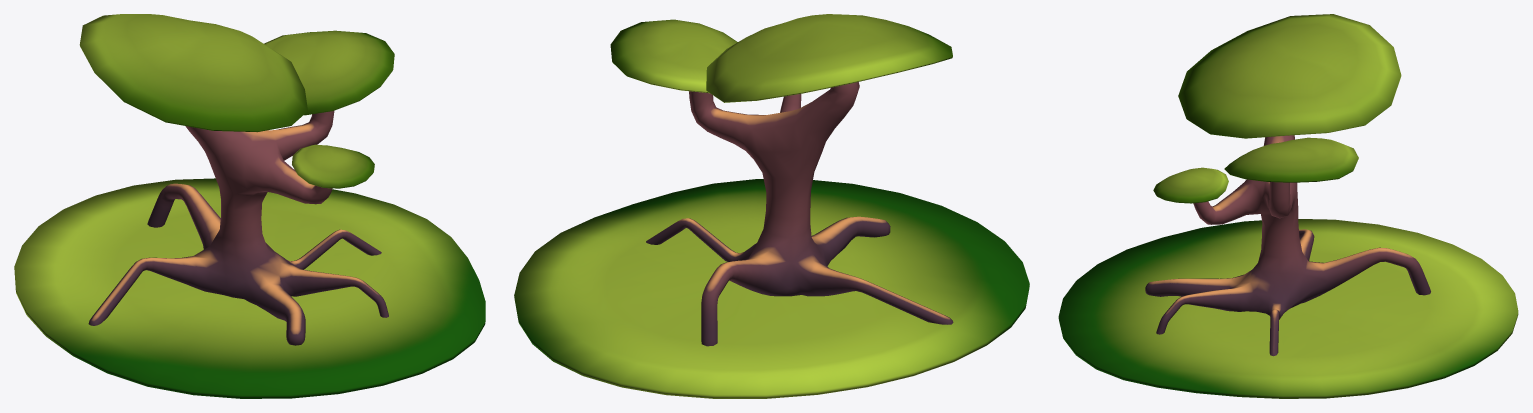
The model's file is Tree_02_Baked.fbx.
3 renders of one model, left to right at view 1: azimuth 30°, elevation 25°; view 2: azimuth 150°, elevation 25°; view 3: azimuth 270°, elevation 25°, orthographic. The views are drawn at different scales.
Visible parts, largest first — view 1: Tree_02_Ground_Baked, Leaf.005_Baked; view 2: Tree_02_Ground_Baked, Leaf.005_Baked; view 3: Tree_02_Ground_Baked, Leaf.005_Baked.
Part boxes in pixels (box(x1,y1,x2,y2)): Tree_02_Ground_Baked: box(14, 178, 485, 398); Leaf.005_Baked: box(79, 14, 394, 345); Tree_02_Ground_Baked: box(514, 179, 1029, 398); Leaf.005_Baked: box(610, 14, 953, 346); Tree_02_Ground_Baked: box(1058, 219, 1518, 398); Leaf.005_Baked: box(1145, 14, 1430, 356).
Bounding box in the file's own units: 10.94 × 7.12 × 12.03.
